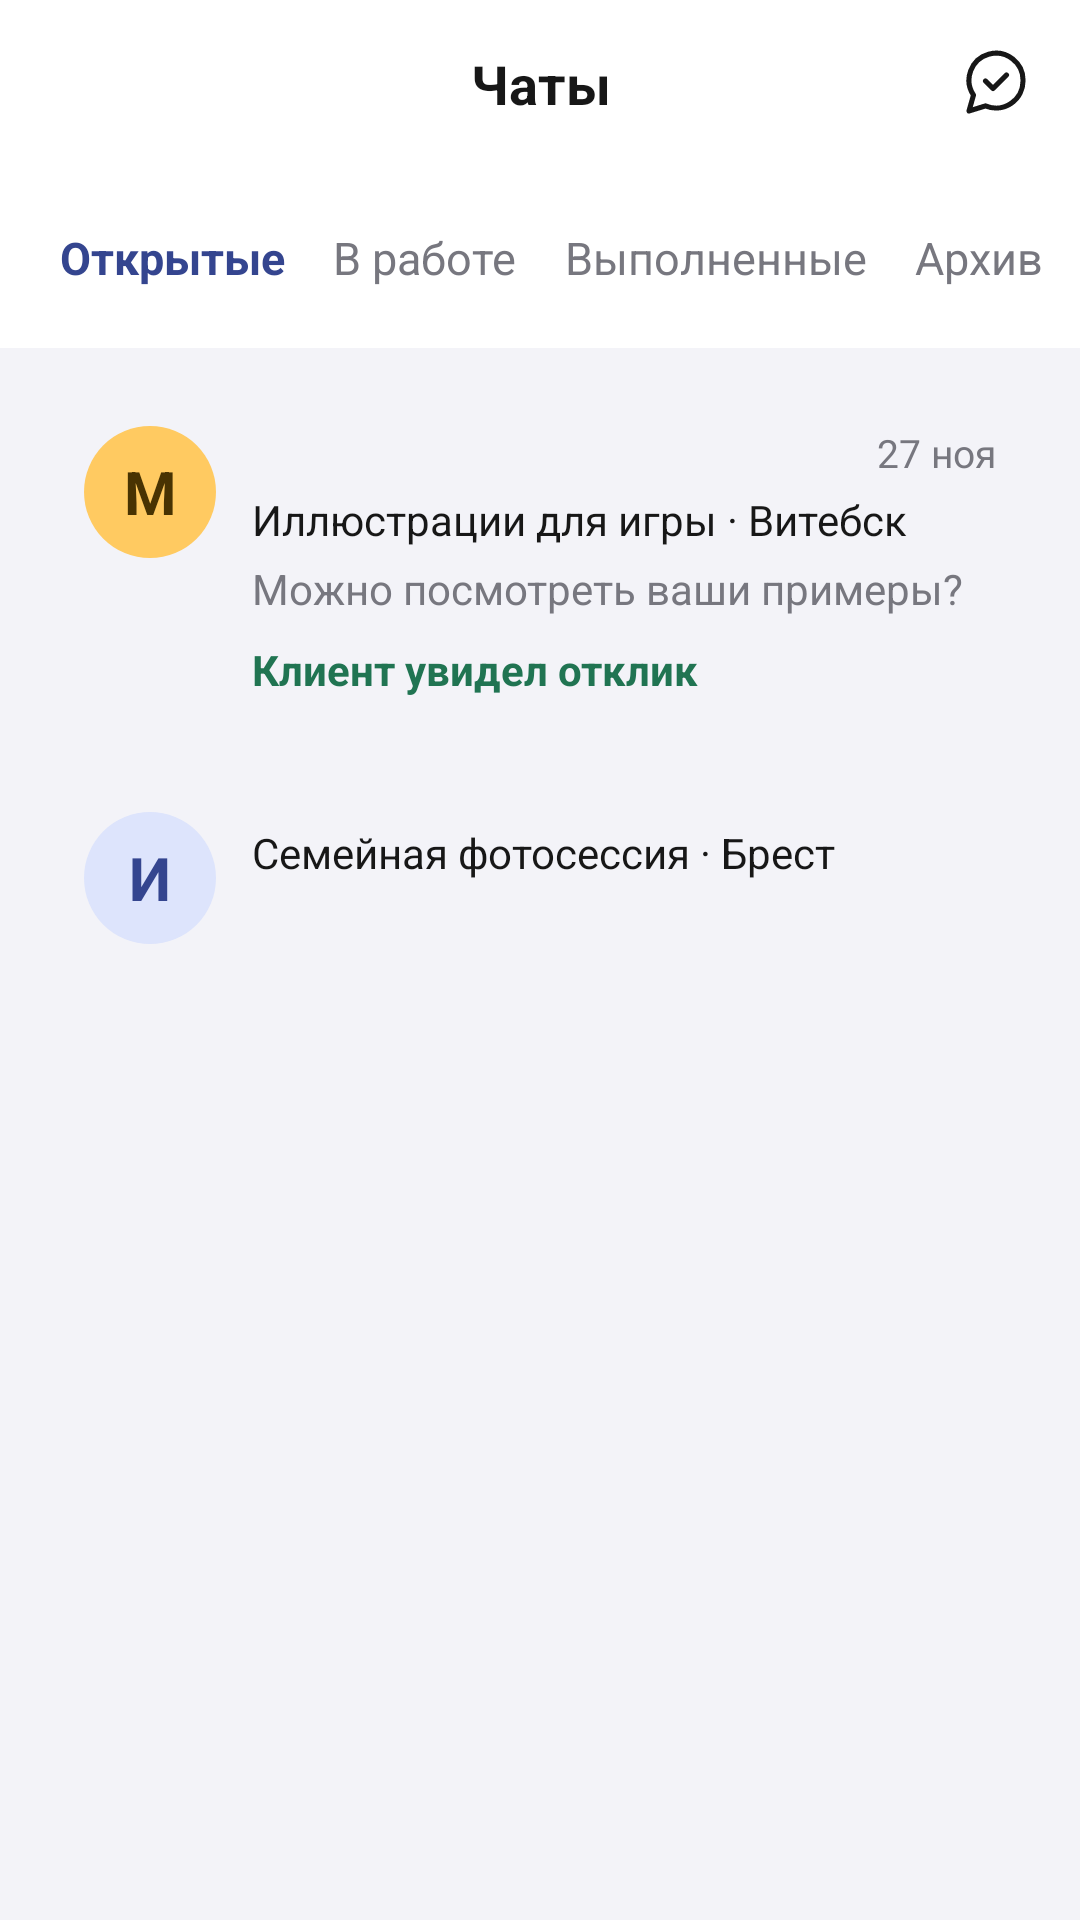

Named icons in this screenshot (1080px x 1920px) and their bounding boxes, (x1, y1, x2, y2):
chats check: (966, 50, 1026, 114)
